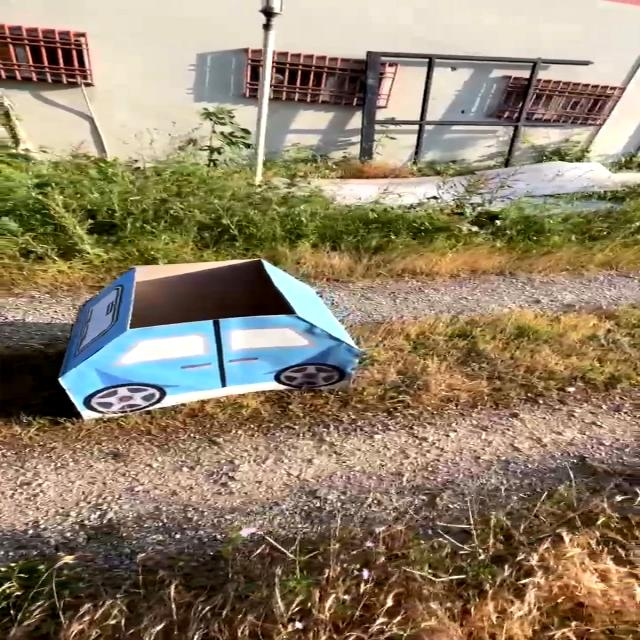blue_car: (0, 233, 398, 432)
